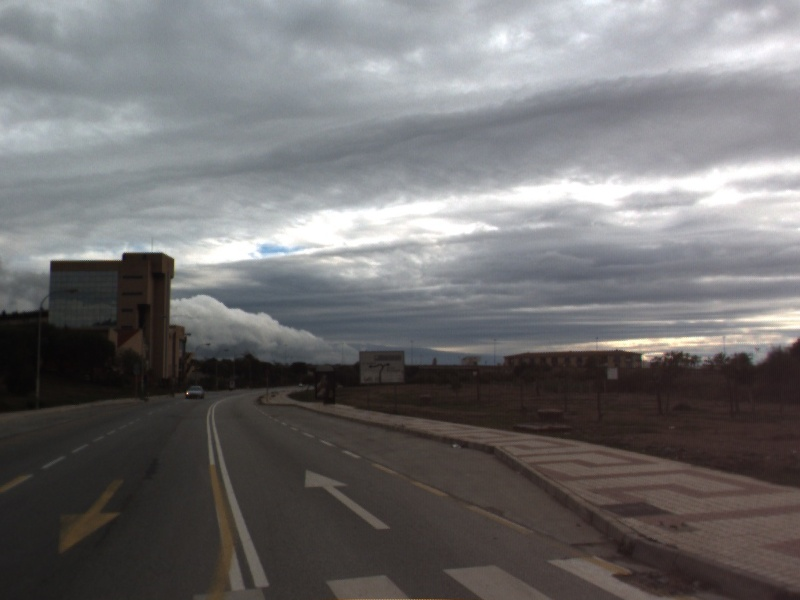STRAIGHT: (303, 467, 393, 531)
